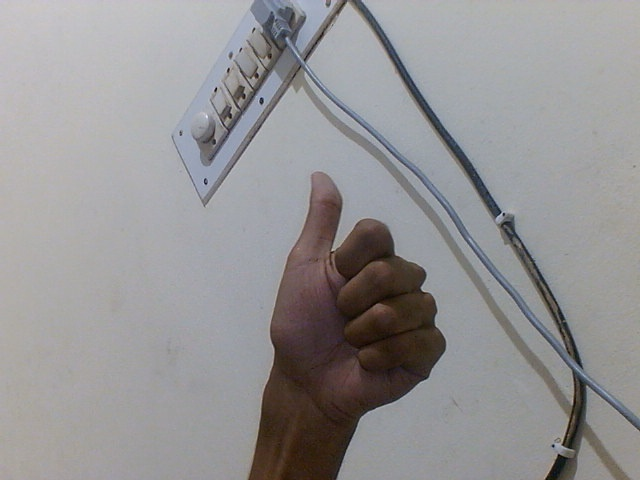hand: (269, 164, 449, 442)
